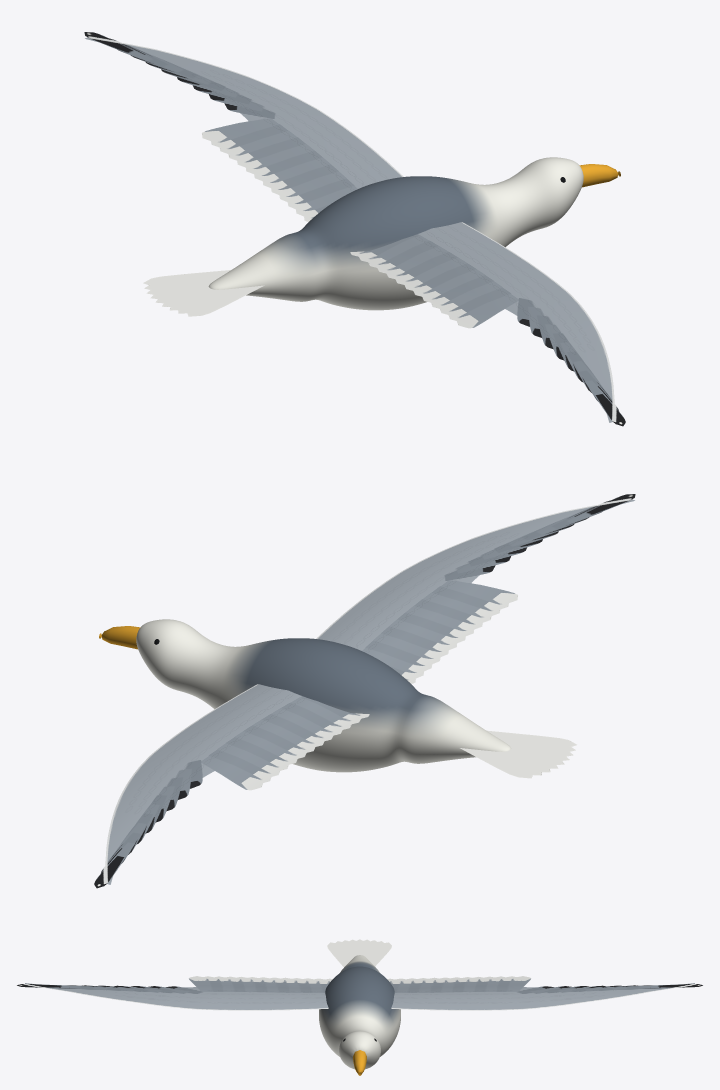
The model's file is old-gull.glb.
3 renders of one model, top to bottom at view 1: azimuth 30°, elevation 25°; view 2: azimuth 150°, elevation 25°; view 3: azimuth 270°, elevation 25°, orthographic. The views are drawn at different scales.
Parts seen in each view (by area): view 1: gull; view 2: gull; view 3: gull.
Part boxes in pixels (x1=…): gull: x1=84, y1=32, x2=625, y2=426; gull: x1=94, y1=494, x2=635, y2=888; gull: x1=17, y1=939, x2=702, y2=1075.
Size of the model in its own units: 0.768 by 0.1832 by 1.54.
5 materials, 2 textured.
